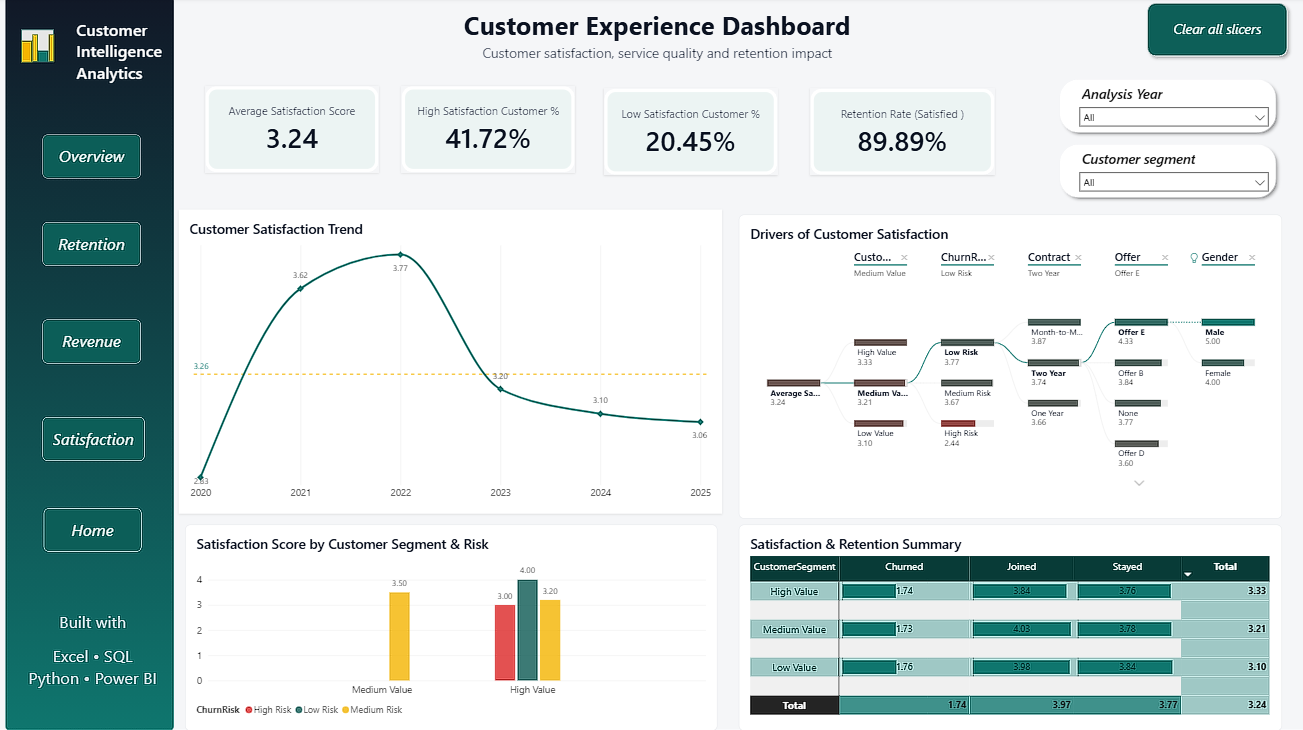

What the dashboard file says about the page in this screenshot:
{"tool":"powerbi","page":{"name":"Satisfaction Analysis","canvas":[1920,1080],"ordinal":4},"visuals":[{"type":"shape","box":[32,48,48,48],"z":0,"group":"g1"},{"type":"shape","box":[1552,208,336,96],"z":0},{"type":"shape","box":[1552,112,336,96],"z":1000},{"type":"image","box":[0,0,264,1080],"z":2000},{"type":"group","id":"g1","title":"Group 1","box":[32,48,48,48],"z":3000},{"type":"textbox","box":[112,32,128,112],"z":4000},{"type":"textbox","box":[16,904,240,176],"z":5000},{"type":"textbox","title":"Customer Experience Dashboard","box":[256,16,1424,80],"z":6000},{"type":"cardVisual","fields":{"Data":["_Measures.Average Satisfaction Score"]},"box":[302.6,130.2,256,128],"z":7000},{"type":"cardVisual","fields":{"Data":["_Measures.High Satisfaction Customer %"]},"box":[590.6,130.2,256,128],"z":8000},{"type":"cardVisual","fields":{"Data":["_Measures.Low Satisfaction Customer %"]},"box":[888.7,133.9,256,128],"z":9000},{"type":"shape","box":[32,64,16,32],"z":10000,"group":"g1"},{"type":"cardVisual","fields":{"Data":["_Measures.Satisfied Customer Retention %"]},"box":[1192.7,133.9,272,128],"z":10000},{"type":"shape","box":[56,80,16,16],"z":11000,"group":"g1"},{"type":"slicer","fields":{"Values":["DimDate.Year"]},"box":[1584,128,288,64],"z":11000},{"type":"shape","box":[72,56,8,40],"z":12000,"group":"g1"},{"type":"slicer","fields":{"Values":["FactRetention.CustomerSegment"]},"box":[1584,224,288,64],"z":12000},{"type":"actionButton","box":[1680,0,224,96],"z":13000},{"type":"shape","box":[48,56,8,40],"z":13000,"group":"g1"},{"type":"lineChart","title":"Customer Satisfaction Trend","fields":{"Category":["DimDate.Year"],"Y":["_Measures.Average Satisfaction Score"]},"box":[264,312,800,448],"z":14000},{"type":"pivotTable","title":"Satisfaction & Retention Summary","fields":{"Rows":["FactRetention.CustomerSegment"],"Columns":["FactRetention.Customer Status"],"Values":["_Measures.Average Satisfaction Score"]},"box":[1088,776,800,304],"z":15000},{"type":"clusteredColumnChart","title":"Satisfaction Score by Customer Segment & Risk","fields":{"Category":["FactRetention.CustomerSegment"],"Y":["_Measures.Average Satisfaction Score"],"Series":["FactRetention.ChurnRisk"]},"box":[272,776,784,304],"z":16000},{"type":"actionButton","box":[62.3,203.3,145,65],"z":17000},{"type":"actionButton","box":[62.3,331.3,145,65],"z":18000},{"type":"actionButton","box":[62.3,475.3,145,65],"z":19000},{"type":"actionButton","box":[62.3,619.3,150,65],"z":20000},{"type":"actionButton","box":[64,752,144,64],"z":21000},{"type":"decompositionTreeVisual","title":"Drivers of Customer Satisfaction","fields":{"Analyze":["_Measures.Average Satisfaction Score"],"ExplainBy":["FactRetention.CustomerSegment","FactRetention.ChurnRisk","DimSubscription.Contract","DimCustomerSatisfaction.Offer","DimCustomer.Gender"]},"box":[1088,320,800,448],"z":22000}]}

Visuals, with their boxes on the page's 1920x1080 design canvas (x1, y1, x2, y2). These are canvas units, not pixel positions in the 1303x730 screenshot, which may show the page scaled, cropped or inside an application window:
shape: {"left": 32, "top": 48, "right": 80, "bottom": 96}
shape: {"left": 1552, "top": 208, "right": 1888, "bottom": 304}
shape: {"left": 1552, "top": 112, "right": 1888, "bottom": 208}
image: {"left": 0, "top": 0, "right": 264, "bottom": 1080}
"Group 1" group: {"left": 32, "top": 48, "right": 80, "bottom": 96}
textbox: {"left": 112, "top": 32, "right": 240, "bottom": 144}
textbox: {"left": 16, "top": 904, "right": 256, "bottom": 1080}
"Customer Experience Dashboard" textbox: {"left": 256, "top": 16, "right": 1680, "bottom": 96}
cardVisual - _Measures.Average Satisfaction Score: {"left": 303, "top": 130, "right": 559, "bottom": 258}
cardVisual - _Measures.High Satisfaction Customer %: {"left": 591, "top": 130, "right": 847, "bottom": 258}
cardVisual - _Measures.Low Satisfaction Customer %: {"left": 889, "top": 134, "right": 1145, "bottom": 262}
shape: {"left": 32, "top": 64, "right": 48, "bottom": 96}
cardVisual - _Measures.Satisfied Customer Retention %: {"left": 1193, "top": 134, "right": 1465, "bottom": 262}
shape: {"left": 56, "top": 80, "right": 72, "bottom": 96}
slicer - DimDate.Year: {"left": 1584, "top": 128, "right": 1872, "bottom": 192}
shape: {"left": 72, "top": 56, "right": 80, "bottom": 96}
slicer - FactRetention.CustomerSegment: {"left": 1584, "top": 224, "right": 1872, "bottom": 288}
actionButton: {"left": 1680, "top": 0, "right": 1904, "bottom": 96}
shape: {"left": 48, "top": 56, "right": 56, "bottom": 96}
"Customer Satisfaction Trend" lineChart: {"left": 264, "top": 312, "right": 1064, "bottom": 760}
"Satisfaction & Retention Summary" pivotTable: {"left": 1088, "top": 776, "right": 1888, "bottom": 1080}
"Satisfaction Score by Customer Segment & Risk" clusteredColumnChart: {"left": 272, "top": 776, "right": 1056, "bottom": 1080}
actionButton: {"left": 62, "top": 203, "right": 207, "bottom": 268}
actionButton: {"left": 62, "top": 331, "right": 207, "bottom": 396}
actionButton: {"left": 62, "top": 475, "right": 207, "bottom": 540}
actionButton: {"left": 62, "top": 619, "right": 212, "bottom": 684}
actionButton: {"left": 64, "top": 752, "right": 208, "bottom": 816}
"Drivers of Customer Satisfaction" decompositionTreeVisual: {"left": 1088, "top": 320, "right": 1888, "bottom": 768}
